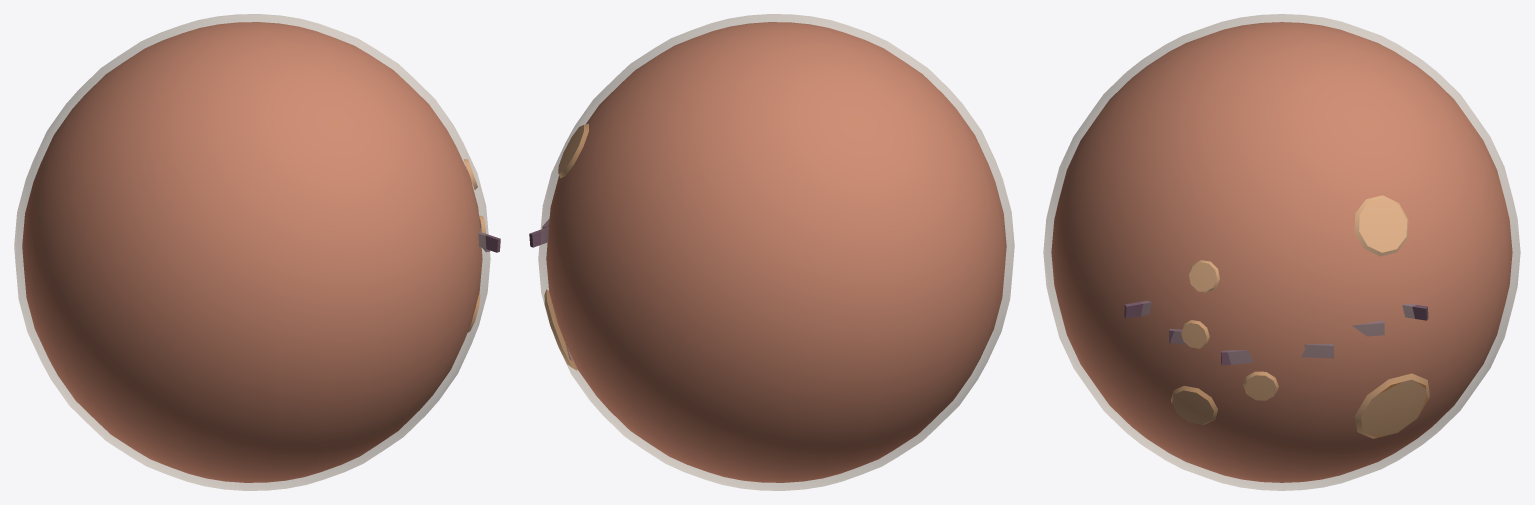
File: asset.glb
3 views of the same model, side by side, from view 1: azimuth 30°, elevation 25°; view 2: azimuth 150°, elevation 25°; view 3: azimuth 270°, elevation 25° (orthographic).
Visible parts, largest first — view 1: Mesh_AtmosphereLimb, Mesh_PlanetCore; view 2: Mesh_AtmosphereLimb, Mesh_PlanetCore, Mesh_CraterRim_2, Mesh_CraterRim_1; view 3: Mesh_AtmosphereLimb, Mesh_PlanetCore, Mesh_CraterRim_1, Mesh_CraterRim_2, Mesh_CraterRim_3, Mesh_CraterRim_4, Mesh_CraterRim_5, Mesh_CraterRim_6.
Part boxes in pixels (left/top/right/bottom): Mesh_AtmosphereLimb: left=14, top=14, right=490, bottom=490; Mesh_PlanetCore: left=22, top=22, right=482, bottom=482; Mesh_AtmosphereLimb: left=538, top=14, right=1014, bottom=490; Mesh_PlanetCore: left=546, top=22, right=1006, bottom=482; Mesh_CraterRim_2: left=558, top=124, right=588, bottom=177; Mesh_CraterRim_1: left=544, top=289, right=577, bottom=370; Mesh_AtmosphereLimb: left=1043, top=14, right=1520, bottom=490; Mesh_PlanetCore: left=1051, top=22, right=1512, bottom=482; Mesh_CraterRim_1: left=1355, top=373, right=1429, bottom=438; Mesh_CraterRim_2: left=1354, top=195, right=1408, bottom=256; Mesh_CraterRim_3: left=1171, top=386, right=1217, bottom=424; Mesh_CraterRim_4: left=1243, top=371, right=1278, bottom=400; Mesh_CraterRim_5: left=1188, top=260, right=1219, bottom=292; Mesh_CraterRim_6: left=1181, top=320, right=1209, bottom=348.
Bounding box in the file's own units: 4.14 × 4.14 × 4.14.
